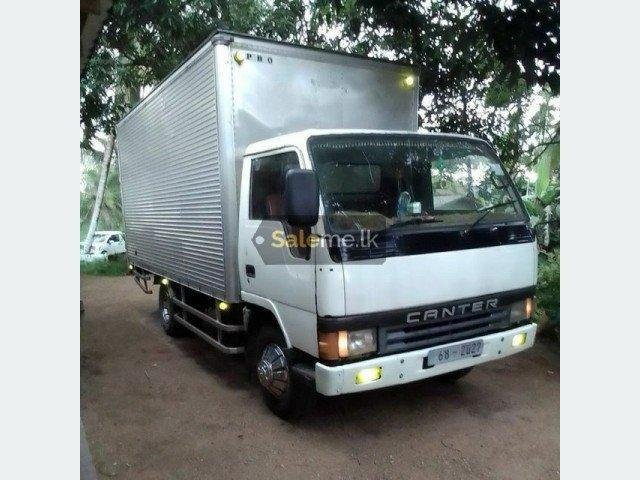truck: (114, 29, 538, 420)
